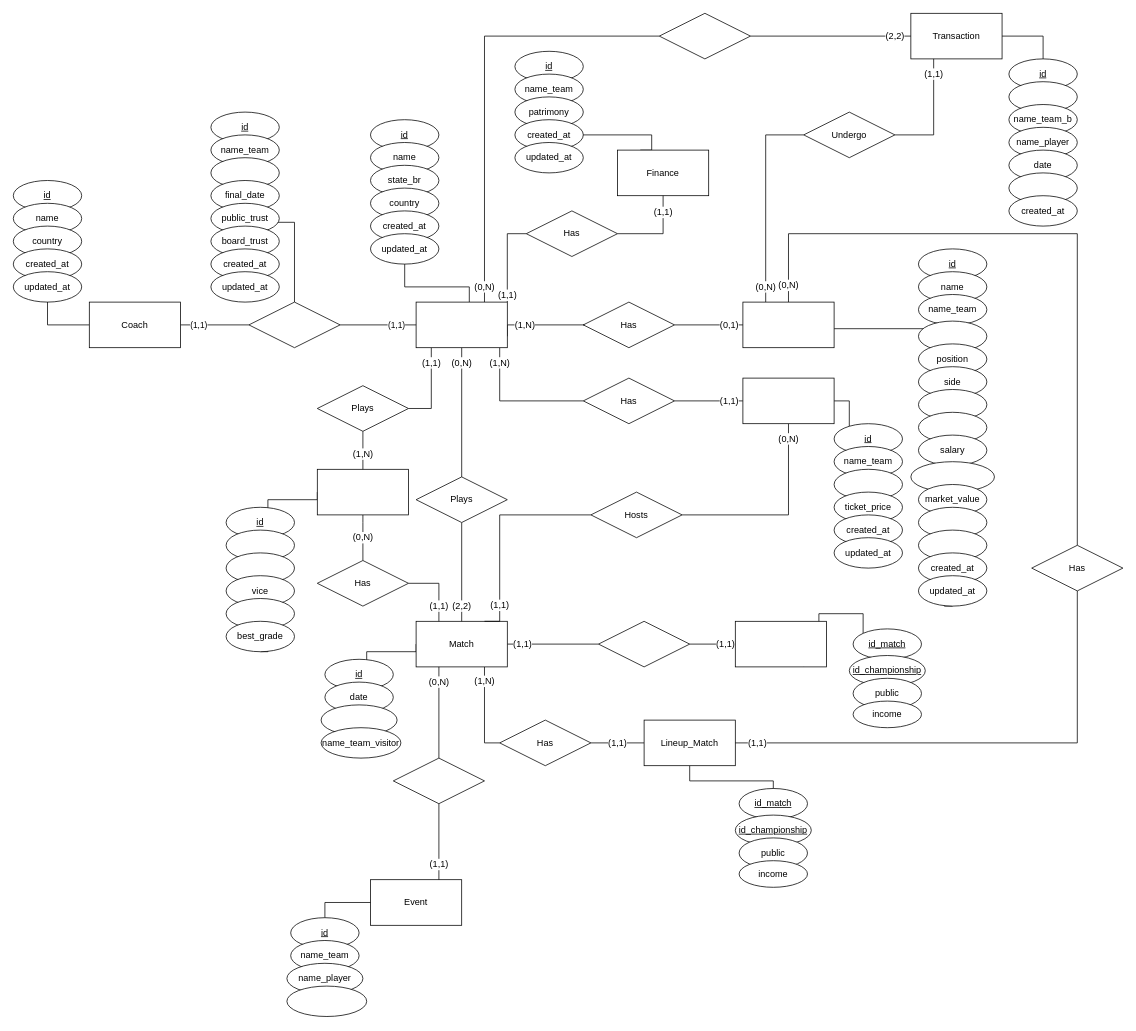
Image size: 1136x1031. Some labels were removed from this diagram. Here are the shapes that lost their labels. From the top down, the box of each, then its label:
(659, 13, 750, 59): Does
(1008, 81, 1077, 112): name_team_a
(210, 157, 279, 188): initial_date
(1008, 172, 1077, 203): type
(248, 301, 340, 348): Trains
(415, 301, 507, 348): Team
(742, 301, 834, 348): Player
(918, 320, 987, 352): age
(742, 377, 834, 424): Stadium
(918, 389, 987, 420): strength
(918, 412, 987, 443): energy
(317, 469, 408, 515): Championship
(833, 469, 902, 500): capacity
(910, 461, 994, 492): contract_due_date
(918, 507, 987, 538): feature_1
(225, 529, 294, 560): is_cup
(918, 529, 987, 560): feature_2
(225, 552, 294, 583): champion
(225, 598, 294, 629): best_scorer
(598, 621, 690, 667): Becomes
(735, 621, 826, 667): Played_Match
(320, 704, 397, 735): name_team_host
(393, 757, 484, 804): Produces
(286, 985, 367, 1016): event_type
